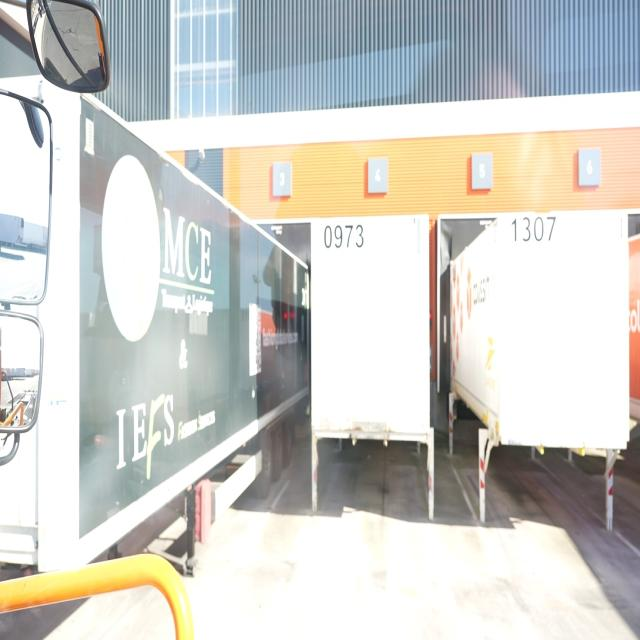Code: (510, 209, 560, 253), (322, 217, 368, 256)
